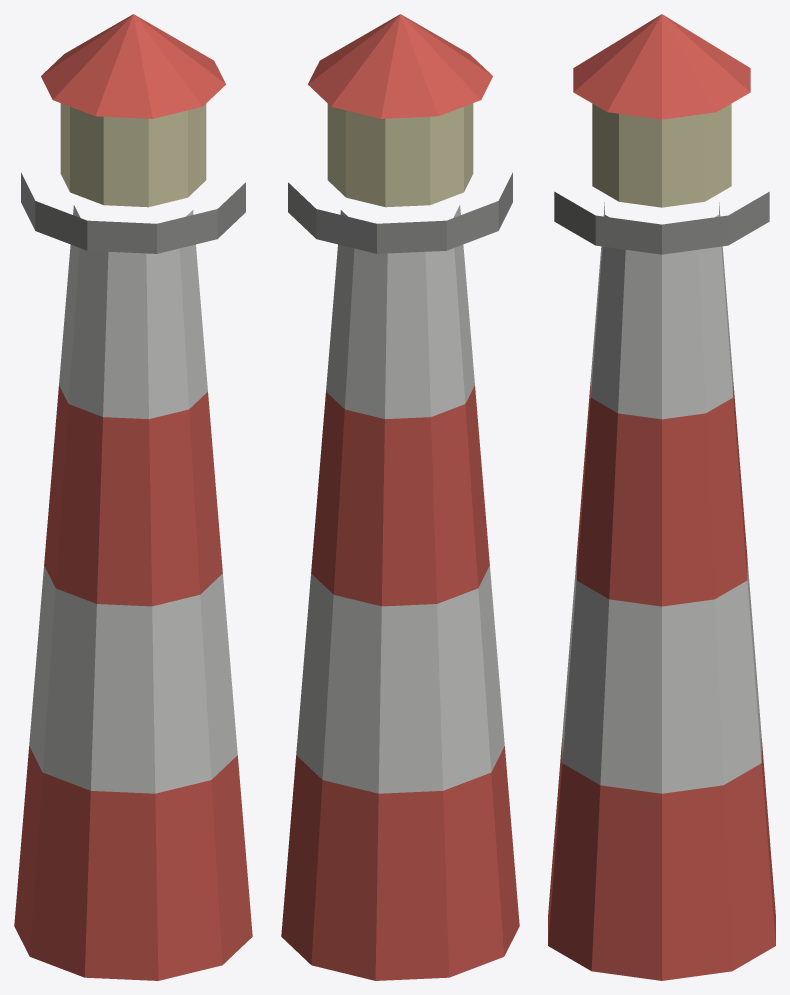
The model's file is lighthouse.glb.
3 renders of one model, left to right at view 1: azimuth 30°, elevation 25°; view 2: azimuth 150°, elevation 25°; view 3: azimuth 270°, elevation 25°, orthographic.
Size of the model in its own units: 7.2 by 30.4 by 6.85.
